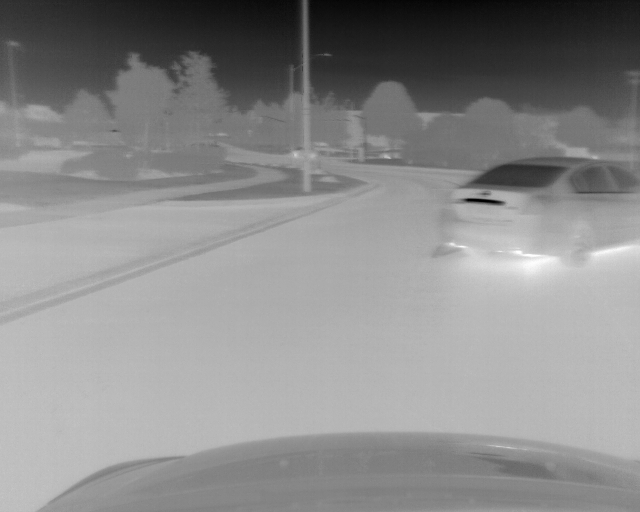car: (439, 155, 640, 267)
